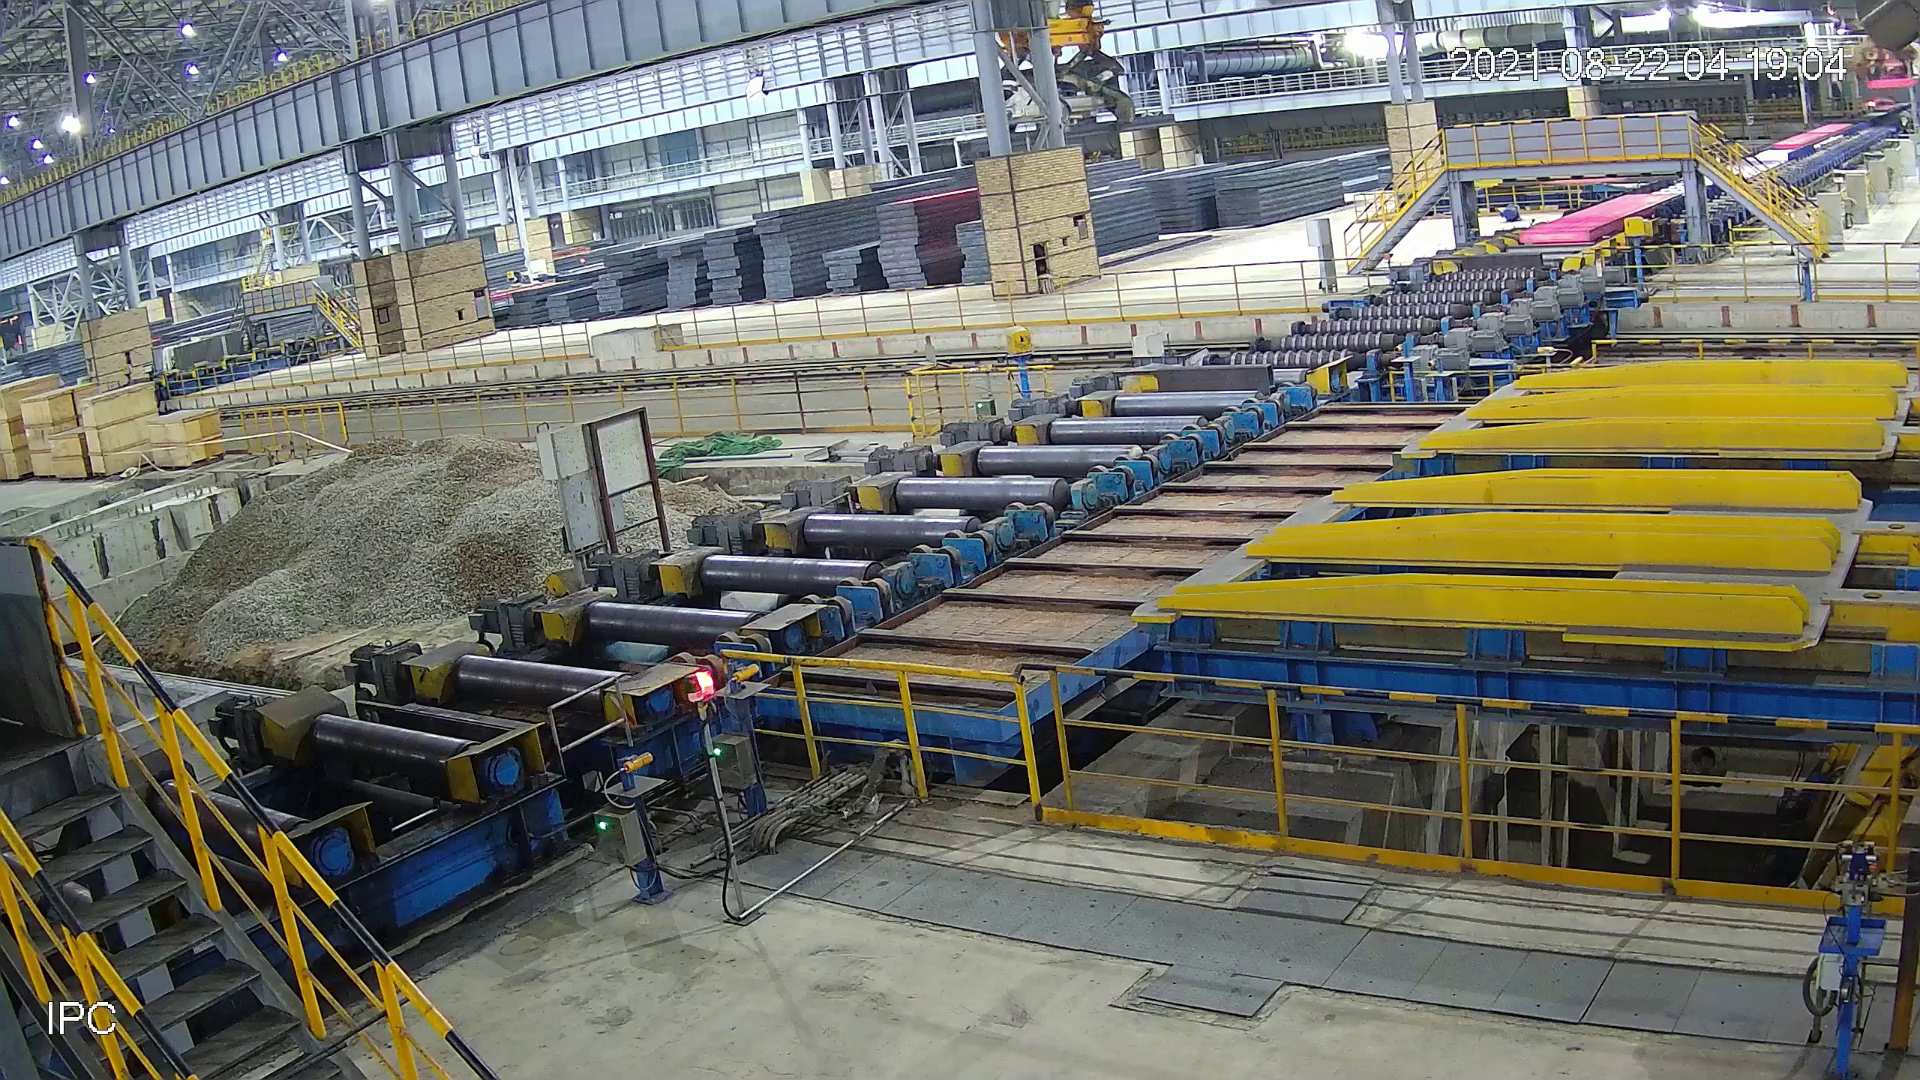slab: (1518, 193, 1681, 247)
